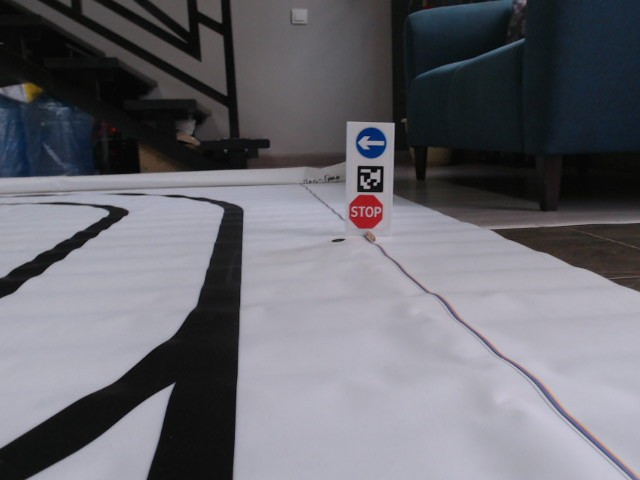Stop: (349, 194, 385, 230)
